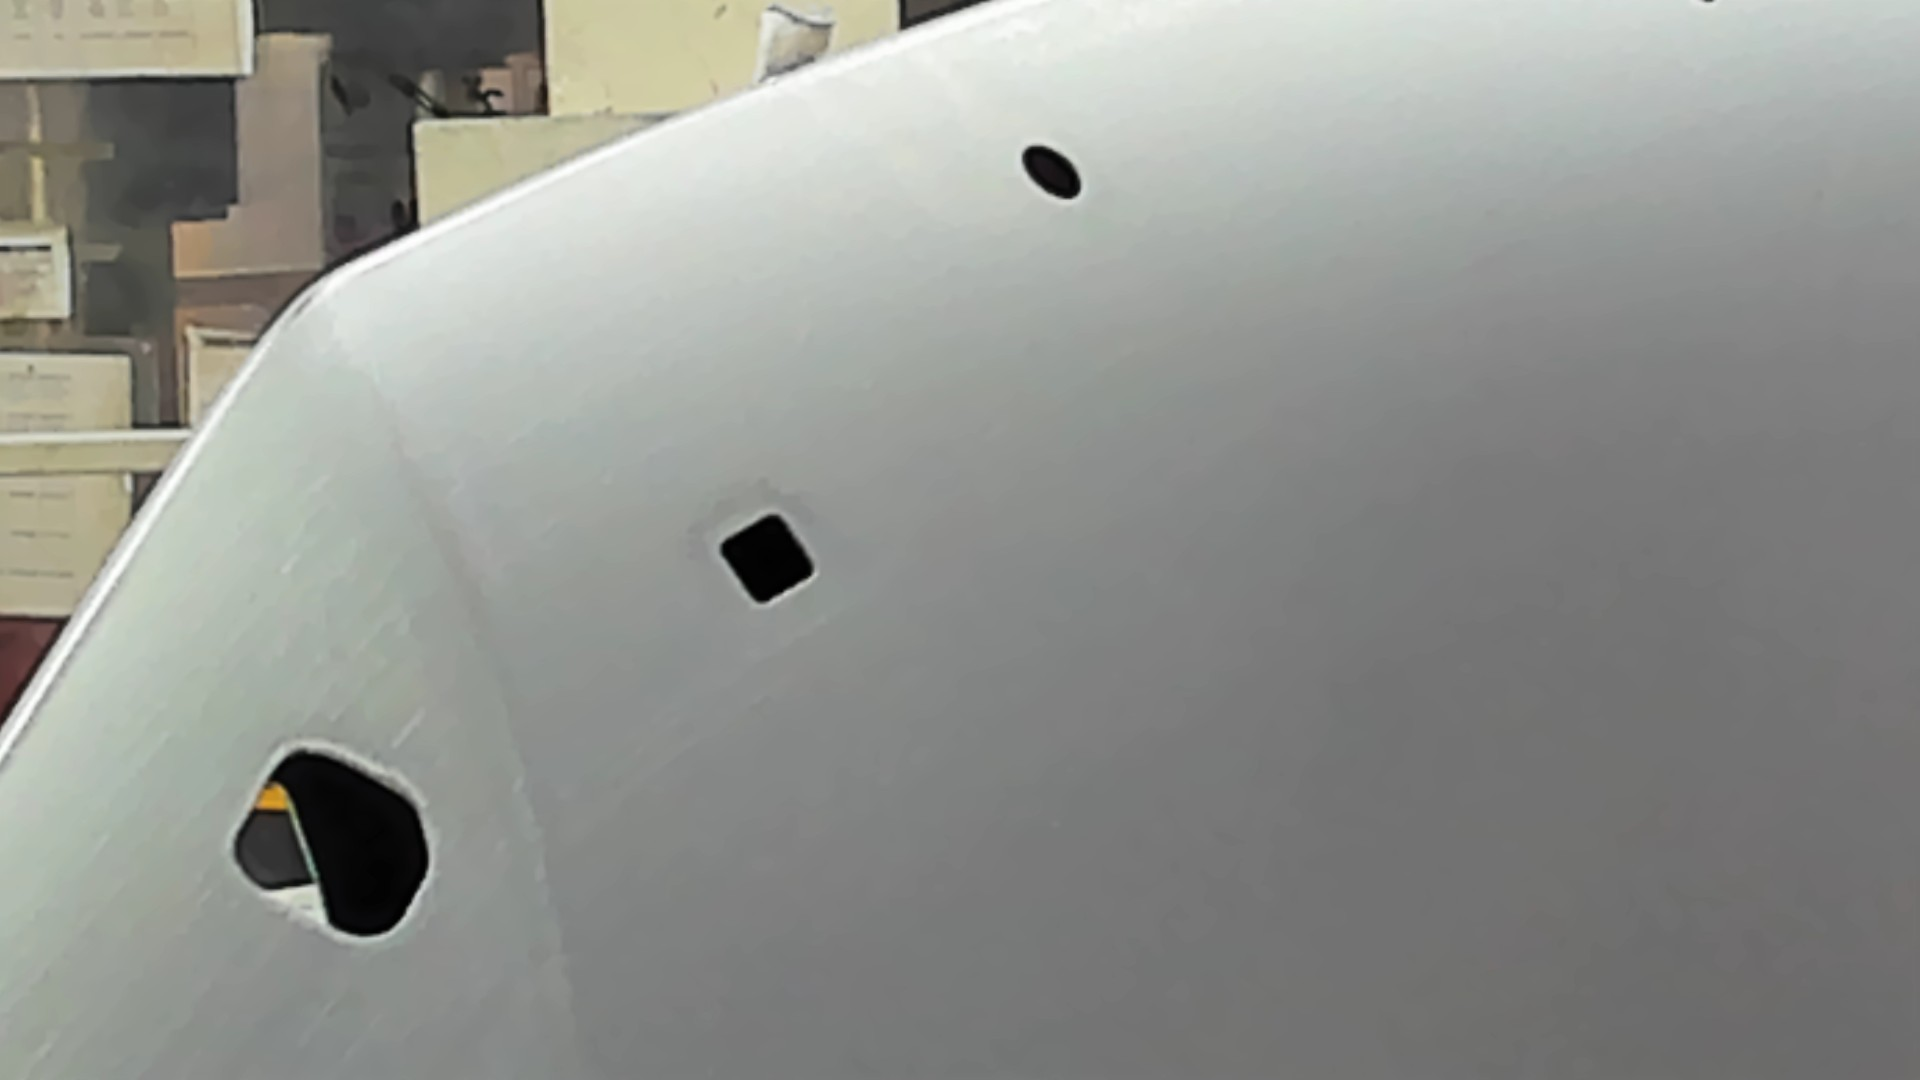capo: (829, 211, 1920, 1080)
chico: (1015, 141, 1088, 203)
grande: (223, 736, 438, 947)
mediano: (713, 506, 820, 615)
